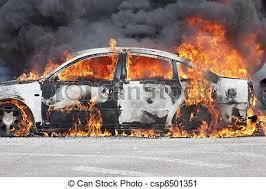fire: (176, 15, 264, 136), (13, 49, 118, 83), (48, 102, 113, 138), (124, 49, 172, 78), (0, 97, 35, 135), (115, 127, 158, 137)
